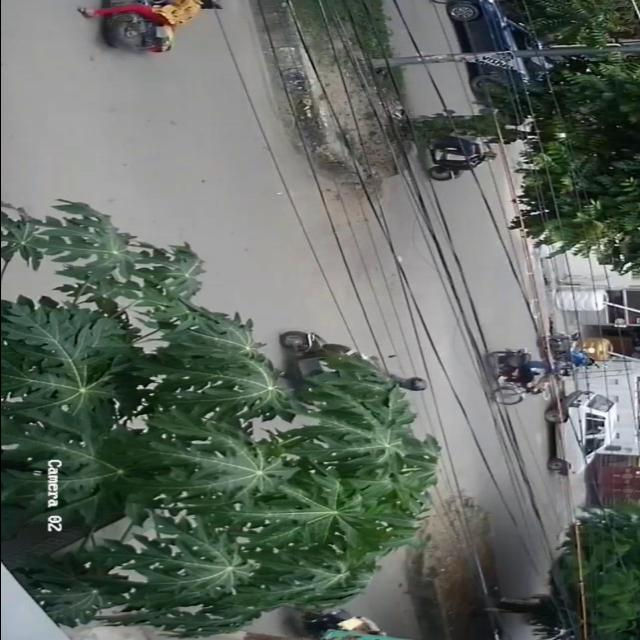accident: (46, 0, 238, 75)
